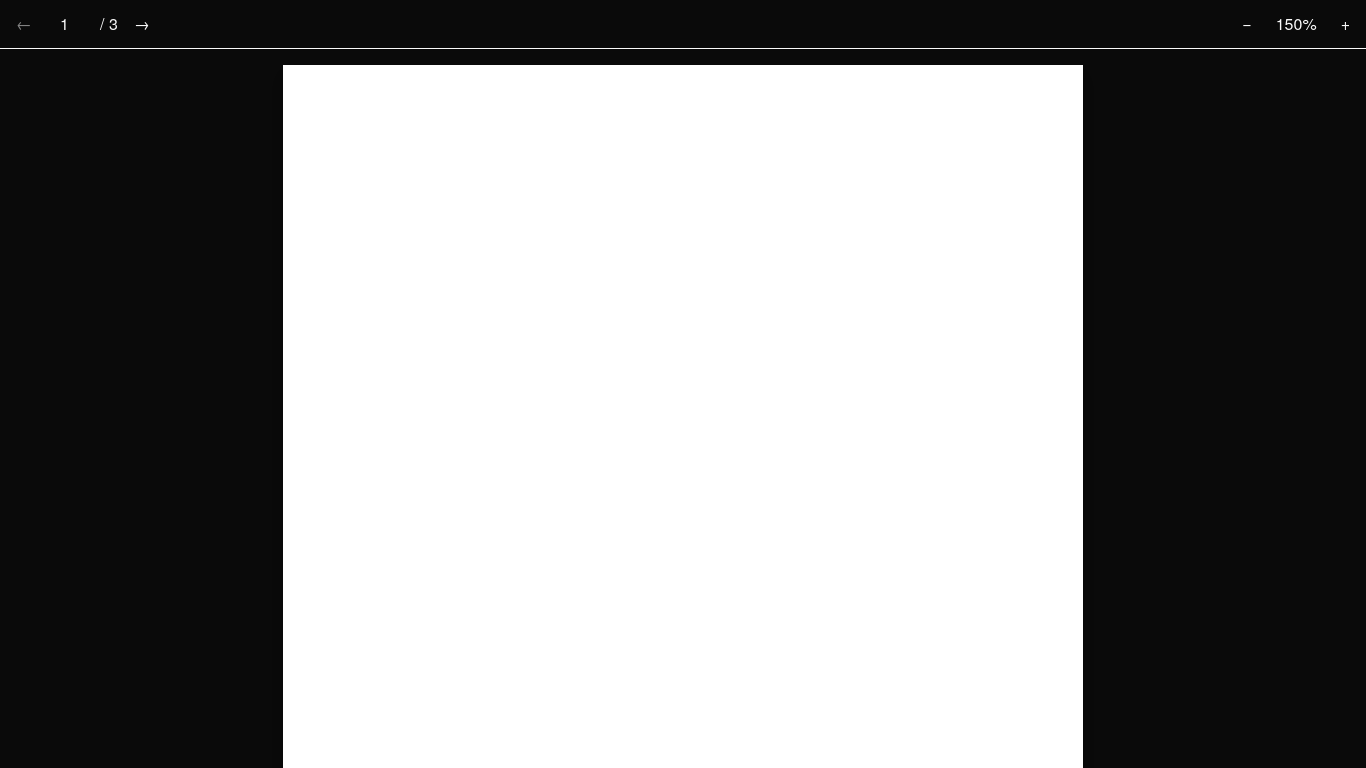
Test: PdfViewer › resets zoom
expect the button "150%" is shown: met, box [1268,8,1325,40]
Click the button named "Zoom in" at coordinates (1345, 24), box [1333,8,1358,40]
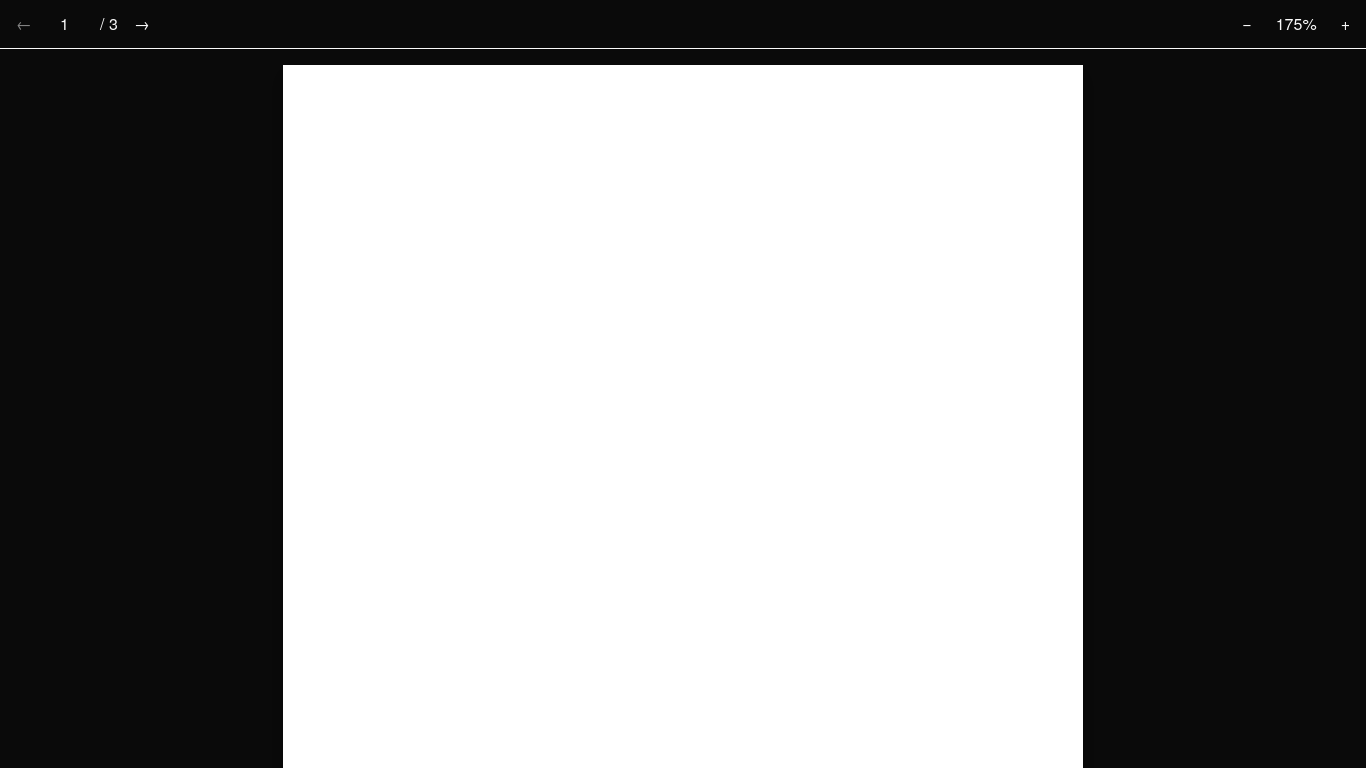
expect the button "175%" is shown: met
Click the button named "Reset zoom" at coordinates (1296, 24), box [1268,8,1325,40]
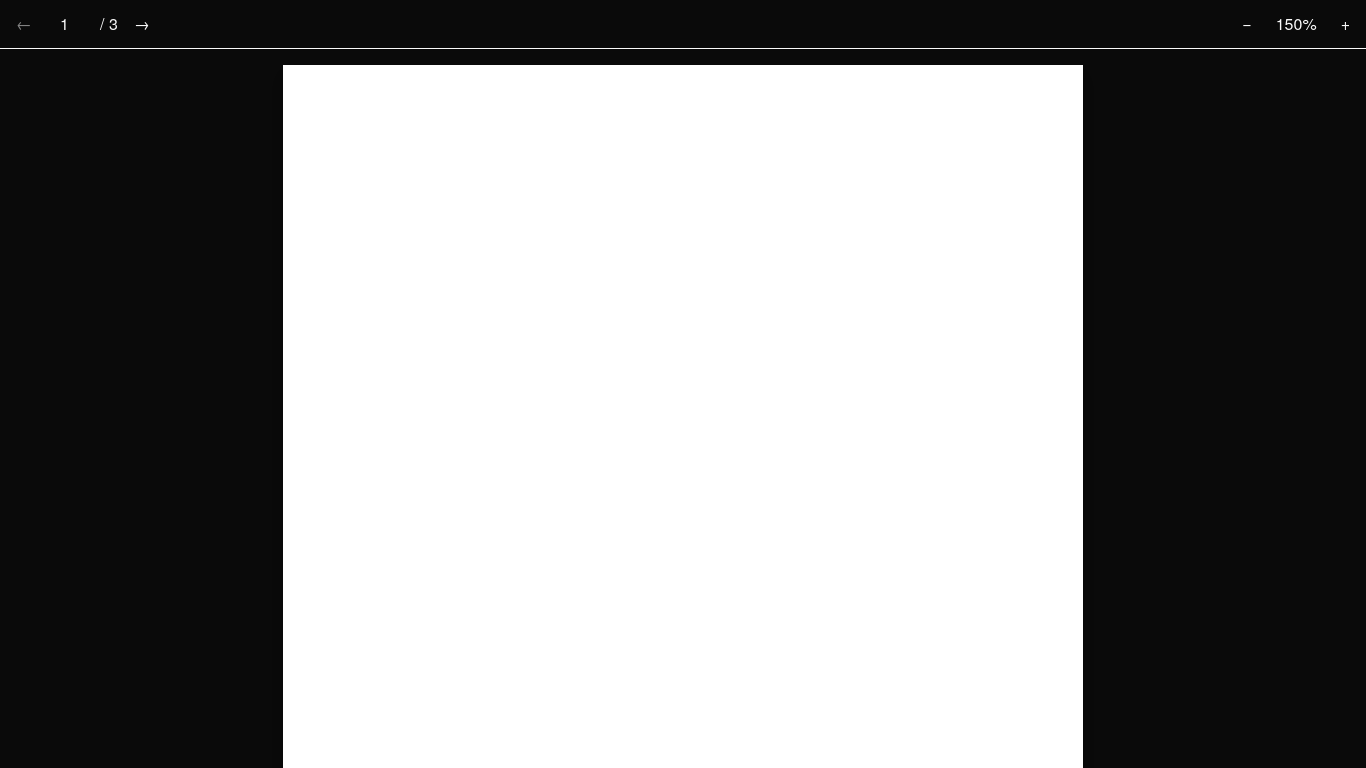
expect the button "150%" is shown: met, box [1268,8,1325,40]
